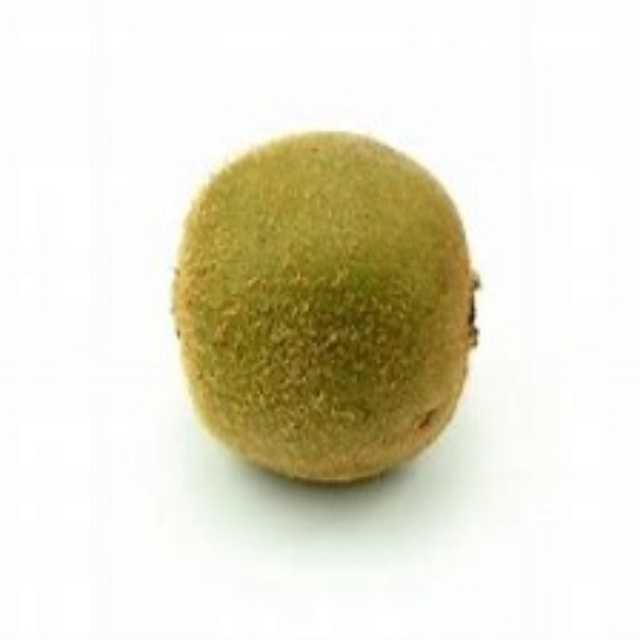kiwi: (176, 131, 472, 483)
